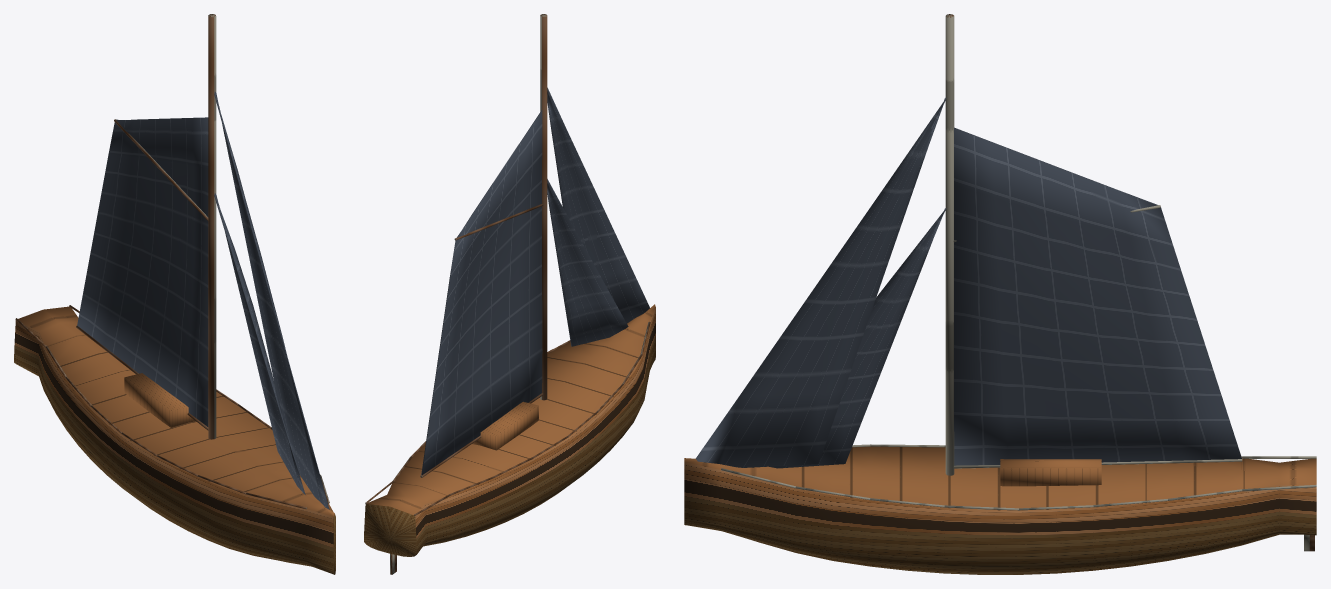
File: SHIP-L_LOD0.fbx
3 views of the same model, side by side, from view 1: azimuth 30°, elevation 25°; view 2: azimuth 150°, elevation 25°; view 3: azimuth 270°, elevation 25° (orthographic). The views are drawn at different scales.
Parts seen in each view (by area): view 1: Sails, Hull, Masts; view 2: Sails, Hull, Masts; view 3: Sails, Hull, Masts.
Boxes of the visible parts, x1=… form: Sails: x1=77, y1=92, x2=329, y2=509; Hull: x1=14, y1=306, x2=335, y2=574; Masts: x1=15, y1=14, x2=329, y2=508; Sails: x1=421, y1=87, x2=649, y2=475; Hull: x1=364, y1=304, x2=655, y2=556; Masts: x1=365, y1=14, x2=650, y2=574; Sails: x1=695, y1=97, x2=1241, y2=468; Hull: x1=684, y1=446, x2=1316, y2=574; Masts: x1=721, y1=14, x2=1316, y2=551.
Bounding box in the file's own units: 4 × 16 × 15.2.
